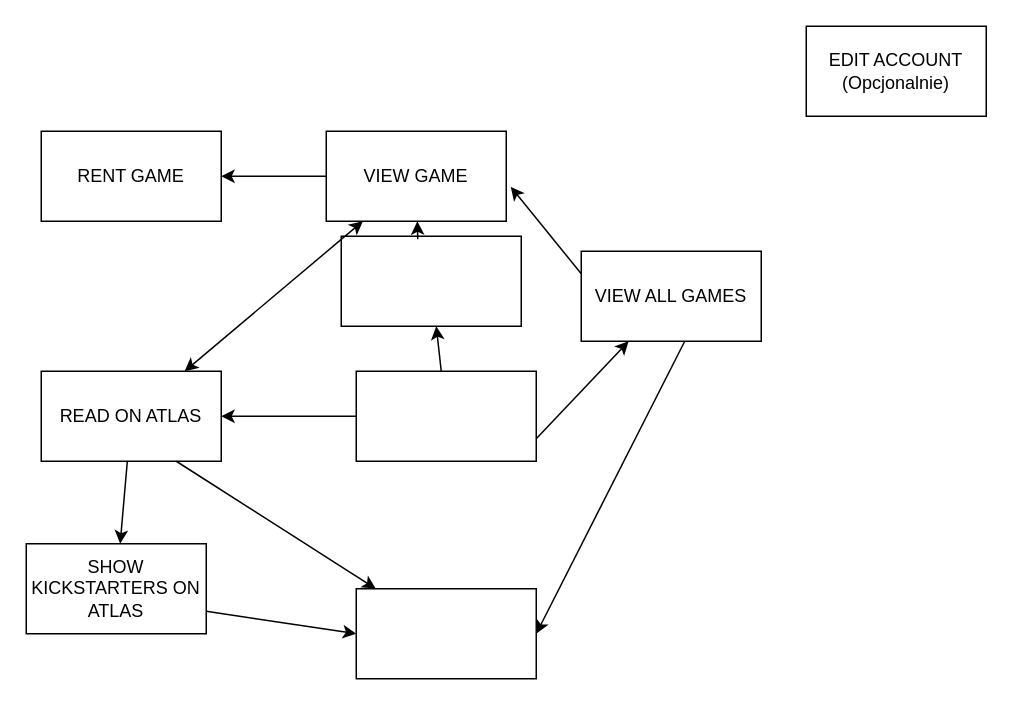
Some shapes in this 1013 by 705 pixel diagram are drawn without their labels. The centre of each missing label's shape, as x and y in pixels:
MAIN: [445,415]
PROPOSE NEW GAME TO RENT: [445,633]
SEARCH: [430,280]
